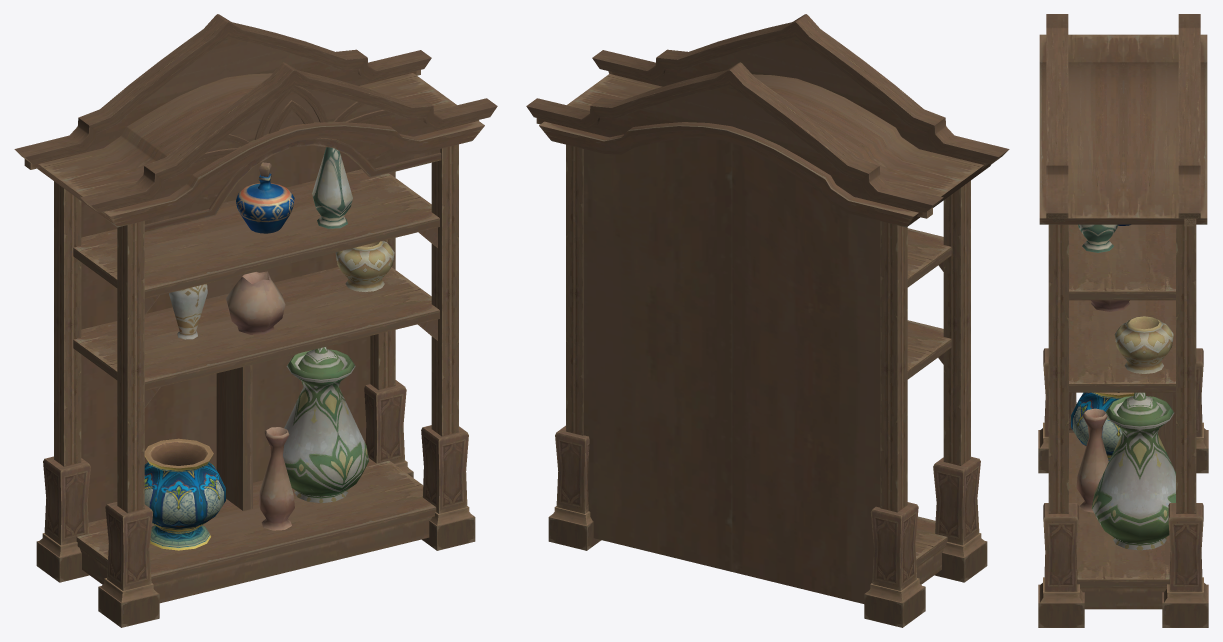
File: Homeworld_Interior_Xm_Cabinet_Prop_Arjiazi_01_Lod0.fbx
3 renders of one model, left to right at view 1: azimuth 30°, elevation 25°; view 2: azimuth 150°, elevation 25°; view 3: azimuth 270°, elevation 25°, orthographic.
Parts seen in each view (by area): view 1: Homeworld_Interior_Xm_Cabinet_Prop_Arjiazi_01_Lod0; view 2: Homeworld_Interior_Xm_Cabinet_Prop_Arjiazi_01_Lod0; view 3: Homeworld_Interior_Xm_Cabinet_Prop_Arjiazi_01_Lod0.
Boxes of the visible parts, <box> form: Homeworld_Interior_Xm_Cabinet_Prop_Arjiazi_01_Lod0: <box>14,14,497,627</box>; Homeworld_Interior_Xm_Cabinet_Prop_Arjiazi_01_Lod0: <box>526,14,1009,627</box>; Homeworld_Interior_Xm_Cabinet_Prop_Arjiazi_01_Lod0: <box>1038,14,1208,627</box>.
Bounding box in the file's own units: 2.65 × 3.18 × 0.9561.
